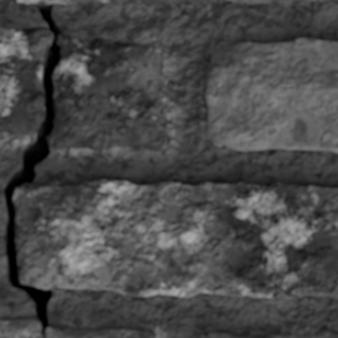brick: (14, 180, 337, 297), (205, 37, 337, 152), (17, 0, 295, 5), (201, 331, 299, 337), (302, 329, 337, 337)
broken_brick: (48, 34, 169, 149), (0, 27, 51, 135), (0, 316, 156, 337)
crack: (0, 2, 62, 335)
